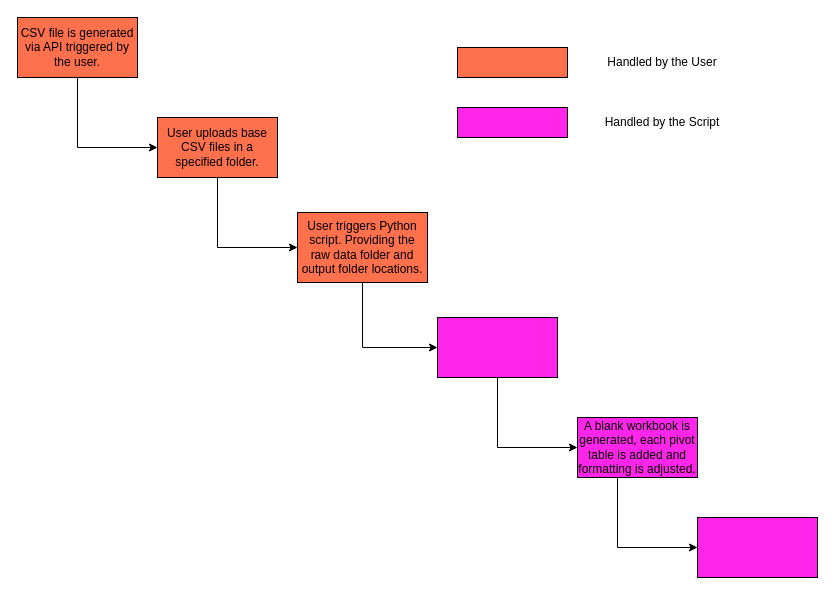
Some shapes in this 835 by 595 pixel diagram are drawn without their labels. The shapes that lost their labels are listed below. From the top down, each one's centre as x and y in pixels, then its label:
At pixel 497 347: "A pivot table is generated for each report type.".
At pixel 757 547: "Each workbook is uploaded to the user specified output folder.".
